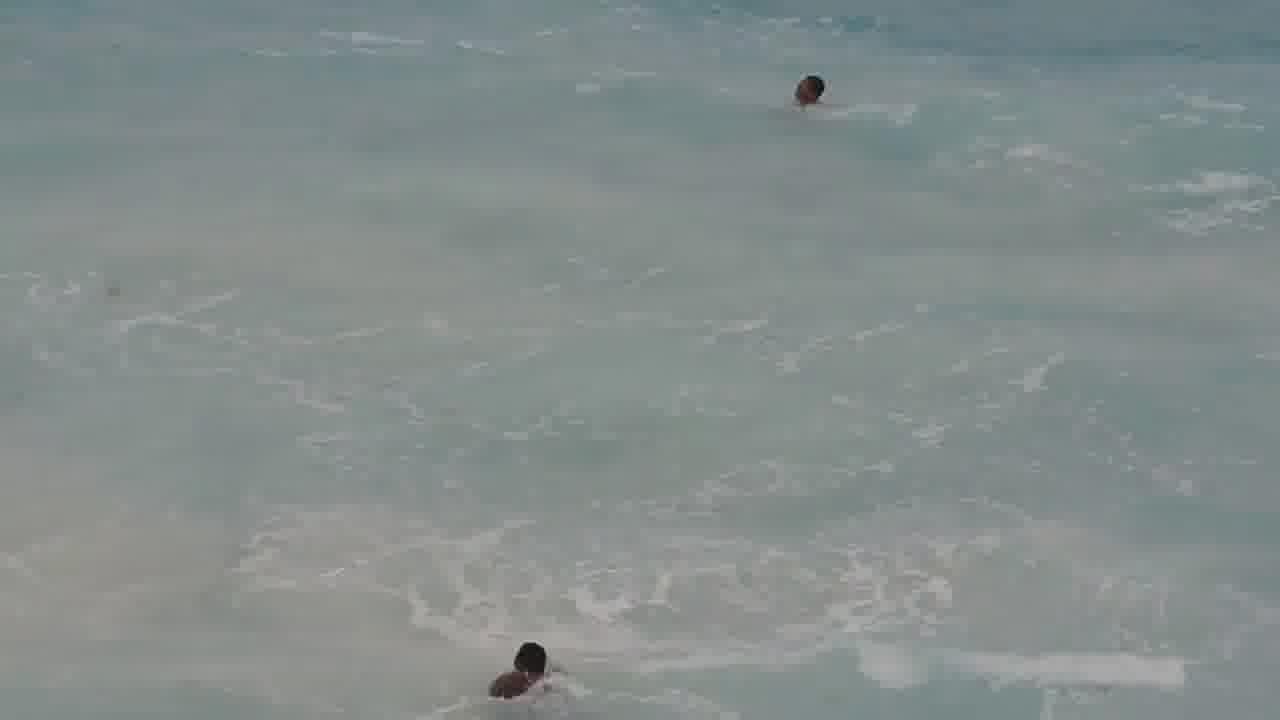swimmer: (491, 628, 583, 688), (774, 63, 846, 123)
